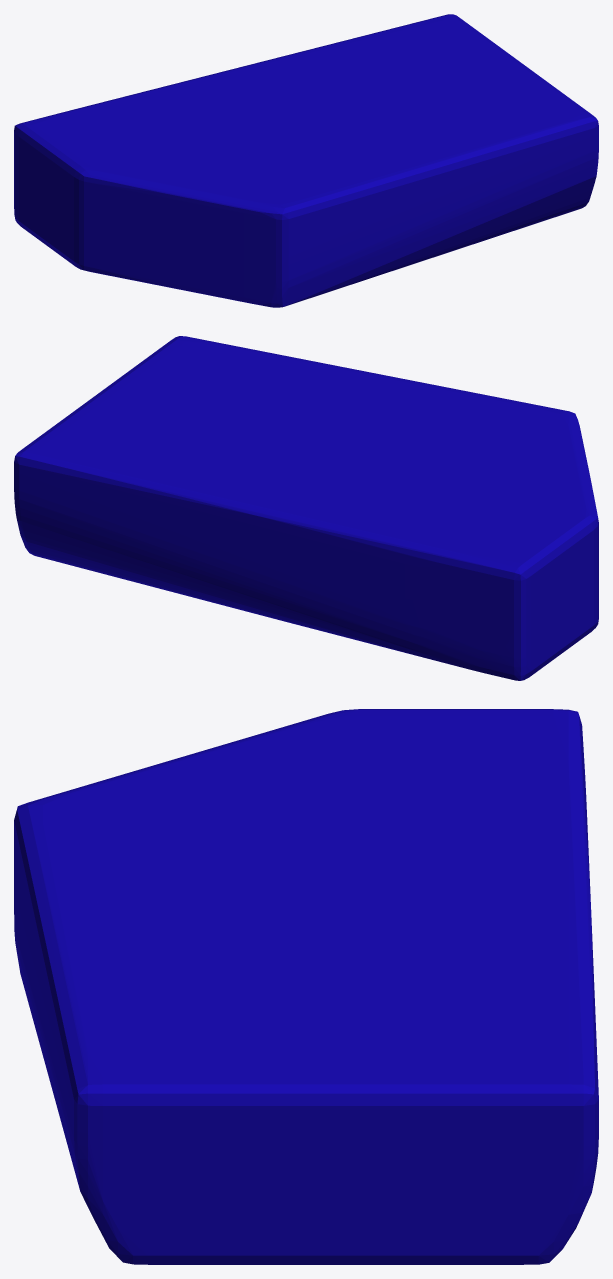
The model's file is left_elbow_link_part_5.obj.
3 views of the same model, one above another, from view 1: azimuth 30°, elevation 25°; view 2: azimuth 150°, elevation 25°; view 3: azimuth 270°, elevation 25° (orthographic). The views are drawn at different scales.
Bounding box in the file's own units: 0.0905 × 0.0196 × 0.0577.
